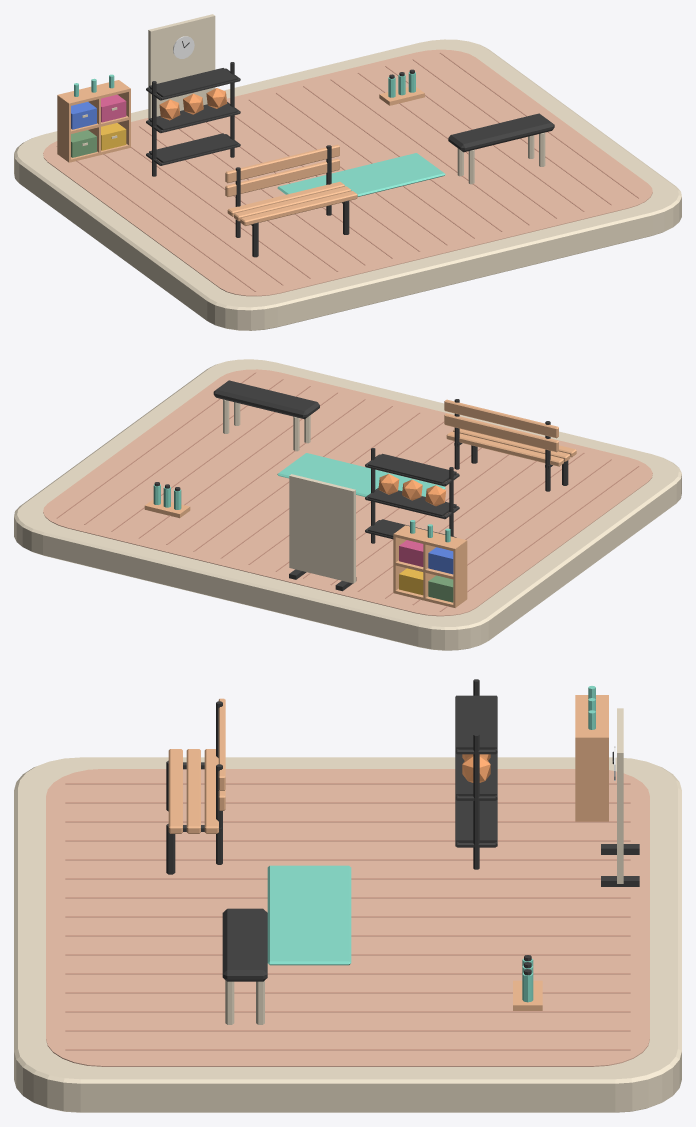
3 views of the same model, one above another, from view 1: azimuth 30°, elevation 25°; view 2: azimuth 150°, elevation 25°; view 3: azimuth 270°, elevation 25° (orthographic). The views are drawn at different scales.
Parts seen in each view (by area): view 1: COM-02 Floor Surface, COM-01 Rounded Base Direct, Panel, Exercise mat, Cushion, Back slat.001, Back slat, Ball shelf, Ball shelf.002, Seat slat, Ball shelf.001, Cubbies divider (+7 smaller); view 2: COM-02 Floor Surface, COM-01 Rounded Base Direct, Panel, Exercise mat, Cushion, Back slat, Back slat.001, Ball shelf.002, Seat slat.002, Ball shelf.001, Cubbies divider, Cubbies shelf.002 (+5 smaller); view 3: COM-02 Floor Surface, COM-01 Rounded Base Direct, Exercise mat, Cushion, Cubbies divider.002, Ball shelf.002, Ball shelf, Seat slat, Seat slat.001, Panel, Cubbies shelf.002, Plank seam.013 (+19 smaller).
Boxes of the visible parts, bbox=[...] form: COM-02 Floor Surface: bbox=[43, 49, 652, 296]; COM-01 Rounded Base Direct: bbox=[14, 39, 681, 330]; Panel: bbox=[148, 14, 215, 119]; Exercise mat: bbox=[277, 153, 445, 196]; Cushion: bbox=[448, 113, 554, 152]; Back slat.001: bbox=[225, 144, 339, 183]; Back slat: bbox=[225, 158, 339, 196]; Ball shelf: bbox=[149, 133, 237, 163]; Ball shelf.002: bbox=[149, 68, 237, 97]; Seat slat: bbox=[240, 191, 357, 225]; Ball shelf.001: bbox=[149, 103, 237, 130]; Cubbies divider: bbox=[57, 95, 70, 162]; COM-02 Floor Surface: bbox=[43, 369, 652, 616]; COM-01 Rounded Base Direct: bbox=[14, 359, 681, 650]; Panel: bbox=[289, 474, 355, 583]; Exercise mat: bbox=[277, 453, 445, 496]; Cushion: bbox=[213, 380, 319, 419]; Back slat: bbox=[444, 413, 558, 452]; Back slat.001: bbox=[444, 399, 558, 438]; Ball shelf.002: bbox=[368, 453, 456, 483]; Seat slat.002: bbox=[446, 431, 563, 466]; Ball shelf.001: bbox=[368, 489, 456, 516]; Cubbies divider: bbox=[453, 541, 467, 607]; Cubbies shelf.002: bbox=[393, 525, 466, 550]; COM-02 Floor Surface: bbox=[46, 769, 649, 1066]; COM-01 Rounded Base Direct: bbox=[14, 757, 681, 1112]; Exercise mat: bbox=[267, 865, 351, 965]; Cushion: bbox=[222, 908, 267, 981]; Cubbies divider.002: bbox=[575, 738, 608, 821]; Ball shelf.002: bbox=[456, 695, 496, 749]; Ball shelf: bbox=[456, 800, 496, 842]; Seat slat: bbox=[168, 749, 182, 833]; Seat slat.001: bbox=[186, 749, 200, 833]; Panel: bbox=[617, 708, 623, 883]; Cubbies shelf.002: bbox=[575, 695, 608, 737]; Plank seam.013: bbox=[65, 1030, 630, 1031].
Size of the model in its own units: 6 by 1.48 by 5.2.
1 material, 1 textured.
